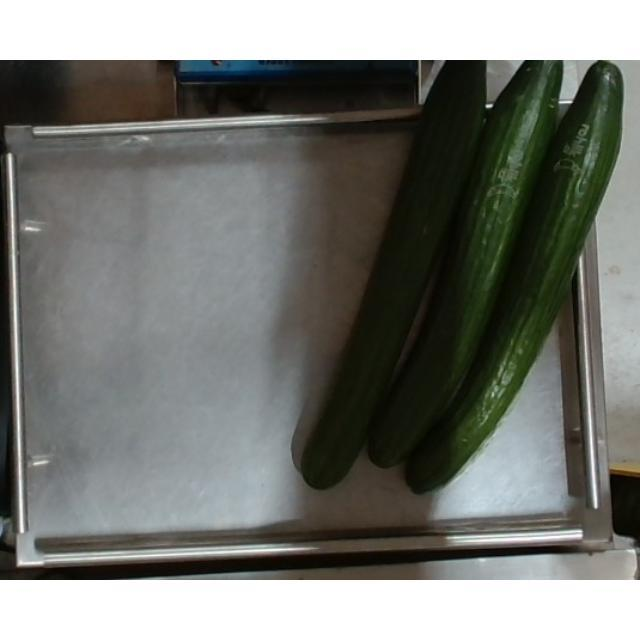cucumber: (409, 60, 625, 498), (363, 60, 567, 470), (292, 60, 484, 490)
